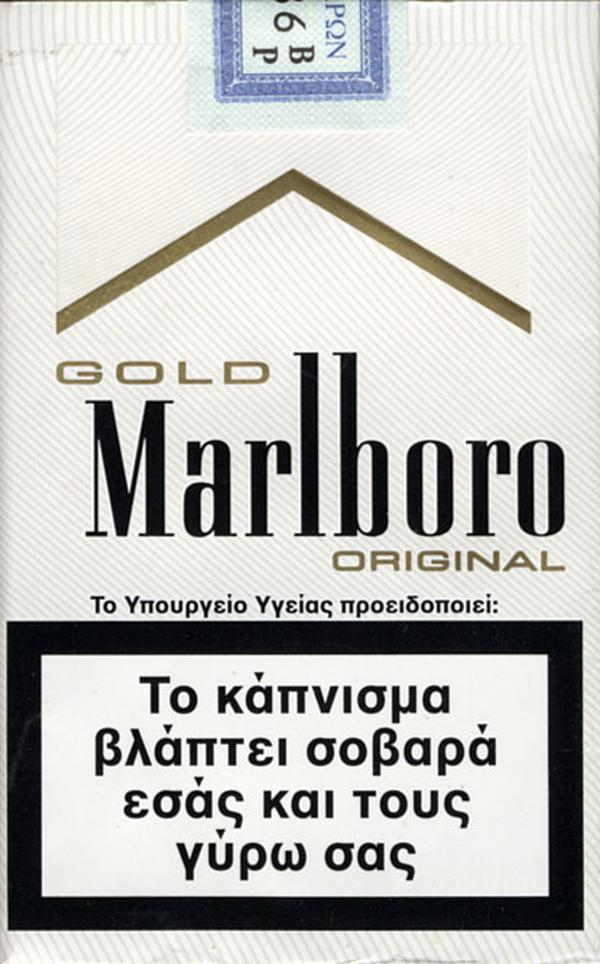marlboro_gold: (6, 2, 582, 932)
